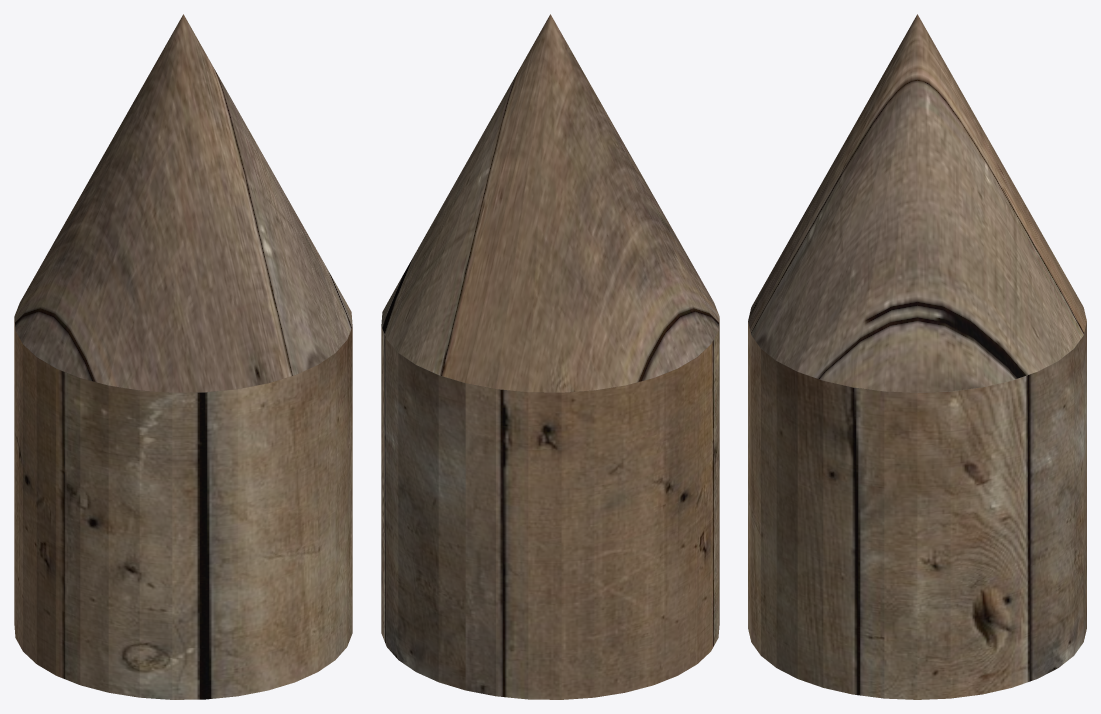
File: Bishop.glb
The picture shows the model from 3 angles, left to right: view 1: azimuth 30°, elevation 25°; view 2: azimuth 150°, elevation 25°; view 3: azimuth 270°, elevation 25°; orthographic projection.
Visible parts, largest first — view 1: Node1, Node2; view 2: Node1, Node2; view 3: Node1, Node2.
Boxes of the visible parts, left/top/right/bottom form: Node1: left=14, top=318, right=352, bottom=699; Node2: left=14, top=14, right=352, bottom=392; Node1: left=381, top=318, right=719, bottom=699; Node2: left=381, top=14, right=719, bottom=392; Node1: left=748, top=322, right=1086, bottom=699; Node2: left=748, top=14, right=1086, bottom=392.
Size of the model in its own units: 2 by 4 by 2.
1 material, 1 textured.
